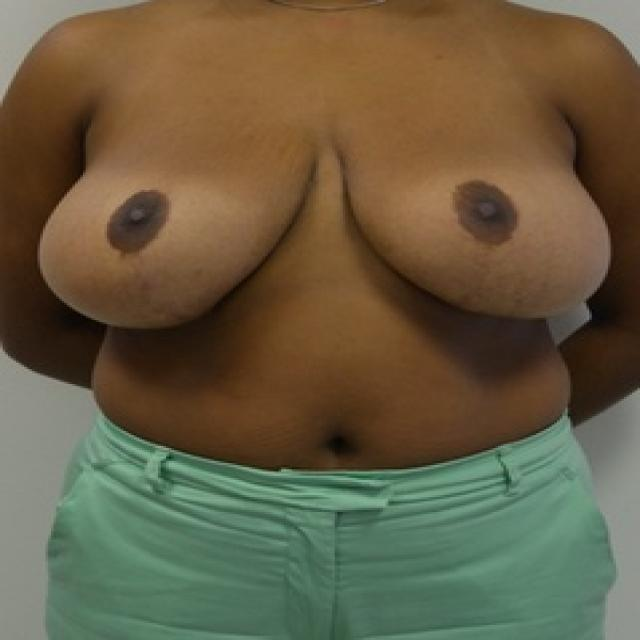Seno ileso: (29, 124, 322, 349), (334, 123, 622, 341)
